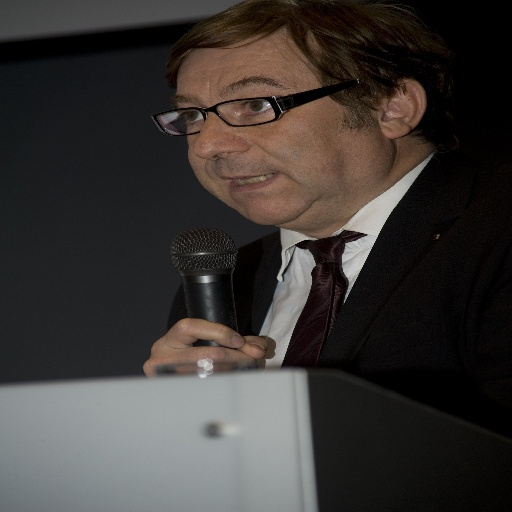hand: (136, 317, 277, 374)
